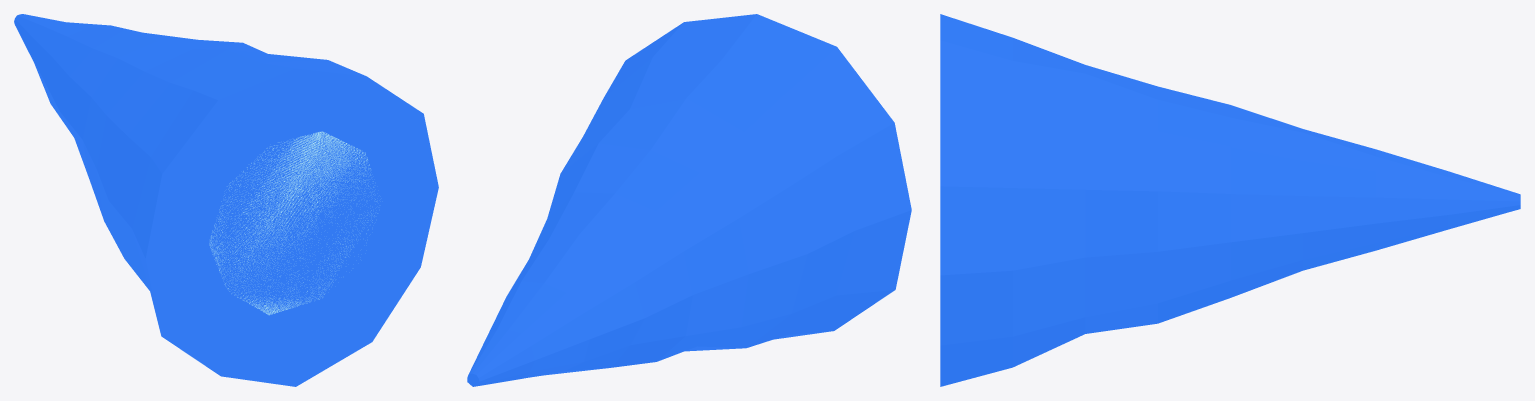
The model's file is afterburner_short.glb.
3 renders of one model, left to right at view 1: azimuth 30°, elevation 25°; view 2: azimuth 150°, elevation 25°; view 3: azimuth 270°, elevation 25°, orthographic. The views are drawn at different scales.
Visible parts, largest first — view 1: afterburner_short; view 2: afterburner_short; view 3: afterburner_short.
Part boxes in pixels (x1,y1,x2,y2): afterburner_short: (14,14,438,386); afterburner_short: (467,14,911,386); afterburner_short: (940,14,1520,386).
Bounding box in the file's own units: 0.5833 × 0.6053 × 0.95.
